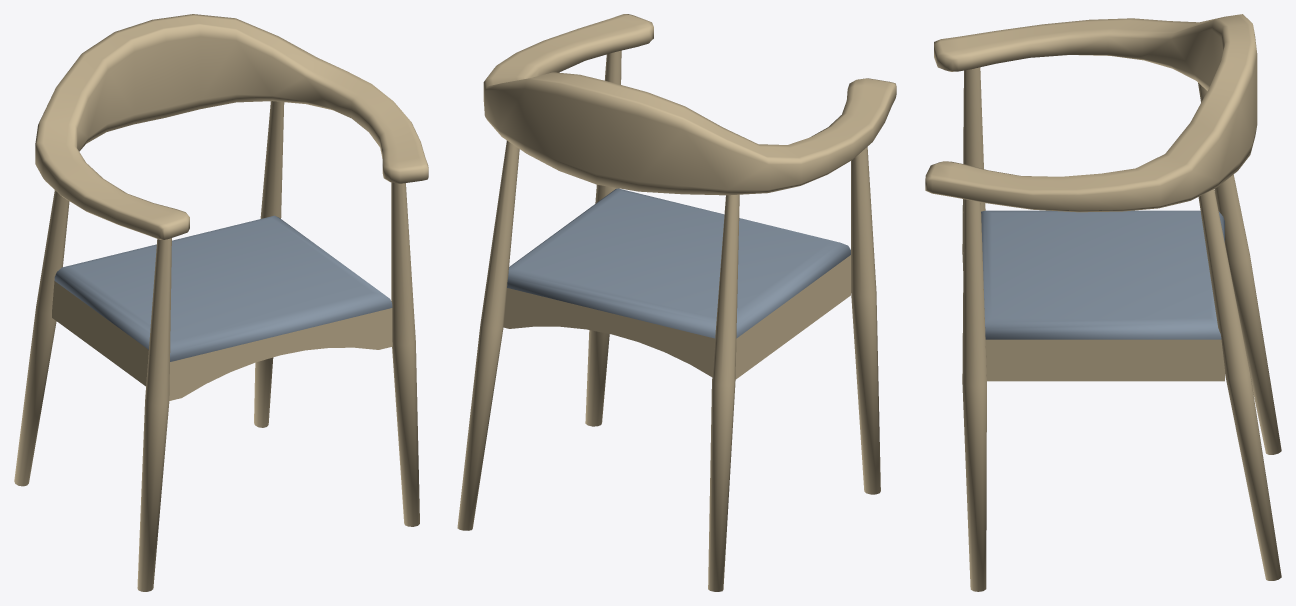
Rendered from Living_Chair.fbx.
The picture shows the model from 3 angles, left to right: view 1: azimuth 30°, elevation 25°; view 2: azimuth 150°, elevation 25°; view 3: azimuth 270°, elevation 25°; orthographic projection. The views are drawn at different scales.
Visible parts, largest first — view 1: Chair; view 2: Chair; view 3: Chair.
Part boxes in pixels (left/top/right/bottom): Chair: left=14, top=14, right=428, bottom=591; Chair: left=457, top=14, right=896, bottom=591; Chair: left=925, top=14, right=1281, bottom=591.
Size of the model in its own units: 72.84 by 93.16 by 63.04.
